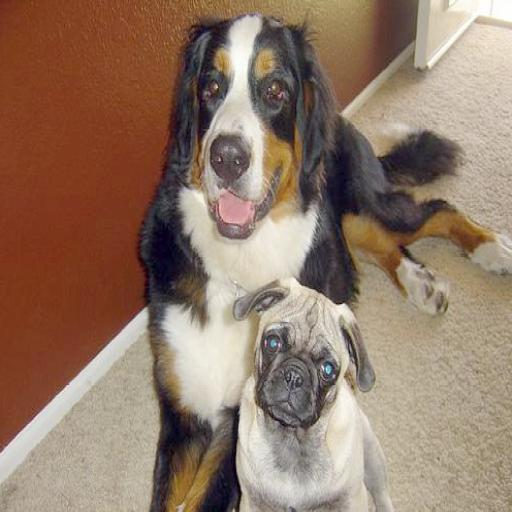dog_face: (175, 22, 328, 241), (239, 276, 378, 430)
